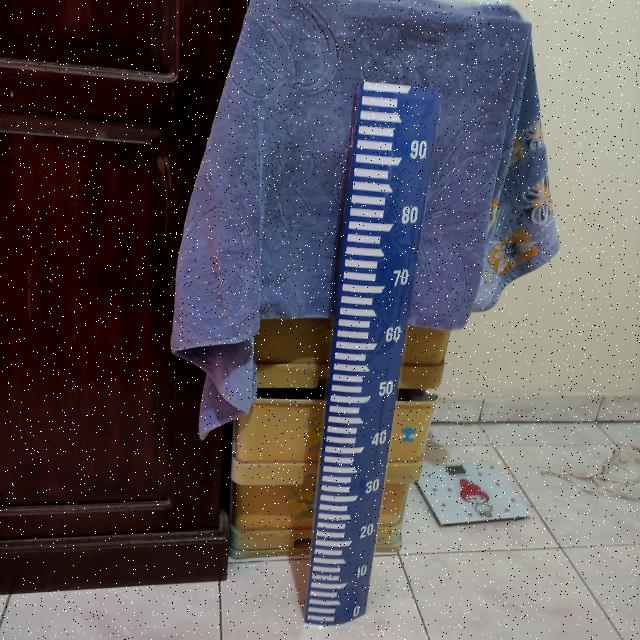10: (354, 562, 369, 578)
20: (358, 522, 376, 540)
30: (364, 477, 380, 496)
40: (370, 429, 388, 447)
50: (377, 378, 395, 398)
60: (385, 324, 403, 343)
70: (392, 267, 410, 289)
80: (400, 205, 420, 225)
90: (409, 138, 427, 161)
staff: (302, 79, 446, 624)
